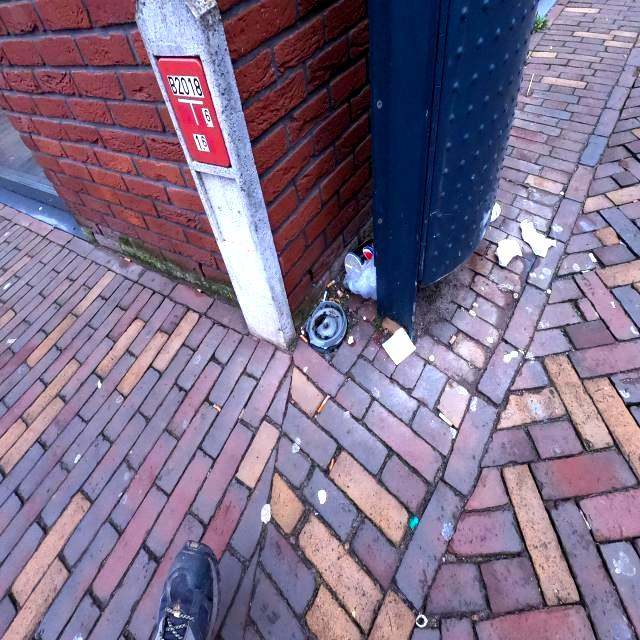Coffee Cup: (344, 235, 374, 278)
Paper: (380, 326, 418, 366), (519, 218, 557, 258), (494, 238, 522, 268)
